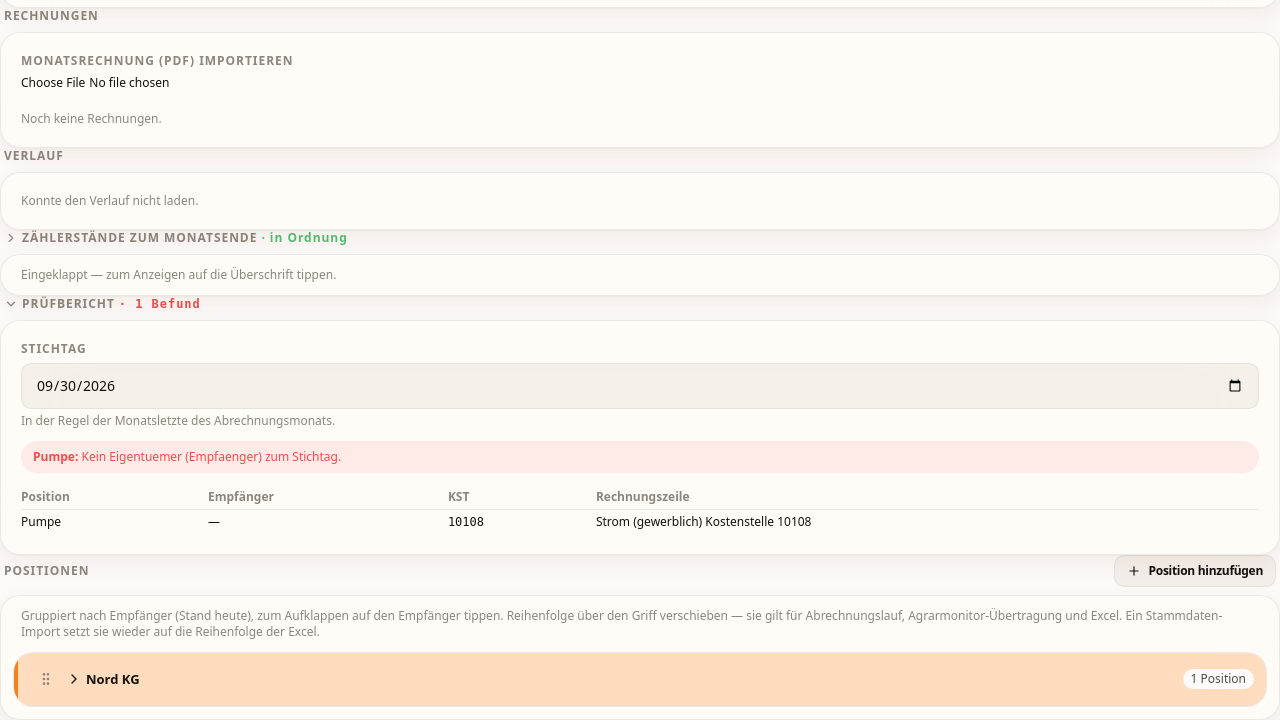
it: BillingCircleDetailPage › gruppiert nach Empfänger mit Griffen statt Reihenfolge-Nummer
(page scrolled)
Expected: the element named "Empfänger „Nord KG“" is shown, [13, 652, 1267, 707]
Expected: the button named "Empfänger „Nord KG“ verschieben" is shown, [30, 663, 62, 695]
Click the button "Nord KG": (113, 679) [66, 670, 1178, 688]
(page scrolled)
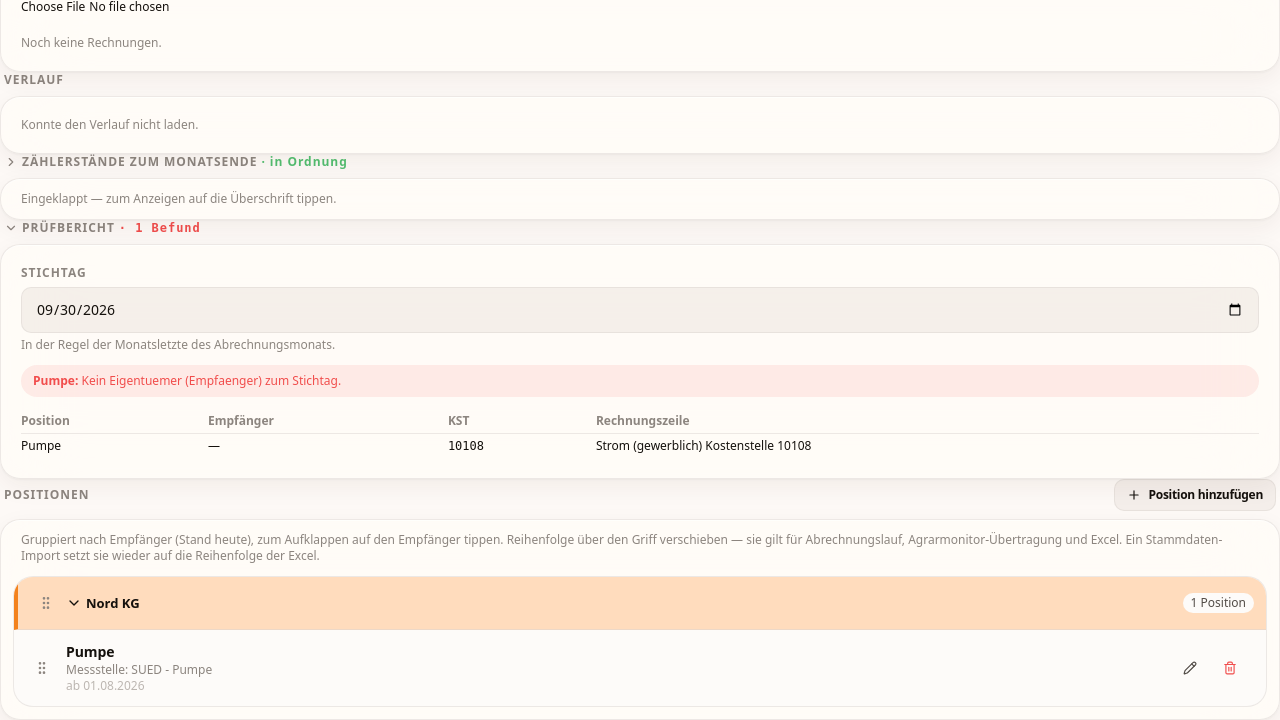
Expected: the button named "Position „Pumpe“ verschieben" is shown, [26, 652, 58, 684]
Click the button named "Position Pumpe bearbeiten": (1190, 668) [1174, 652, 1206, 684]
(page scrolled)
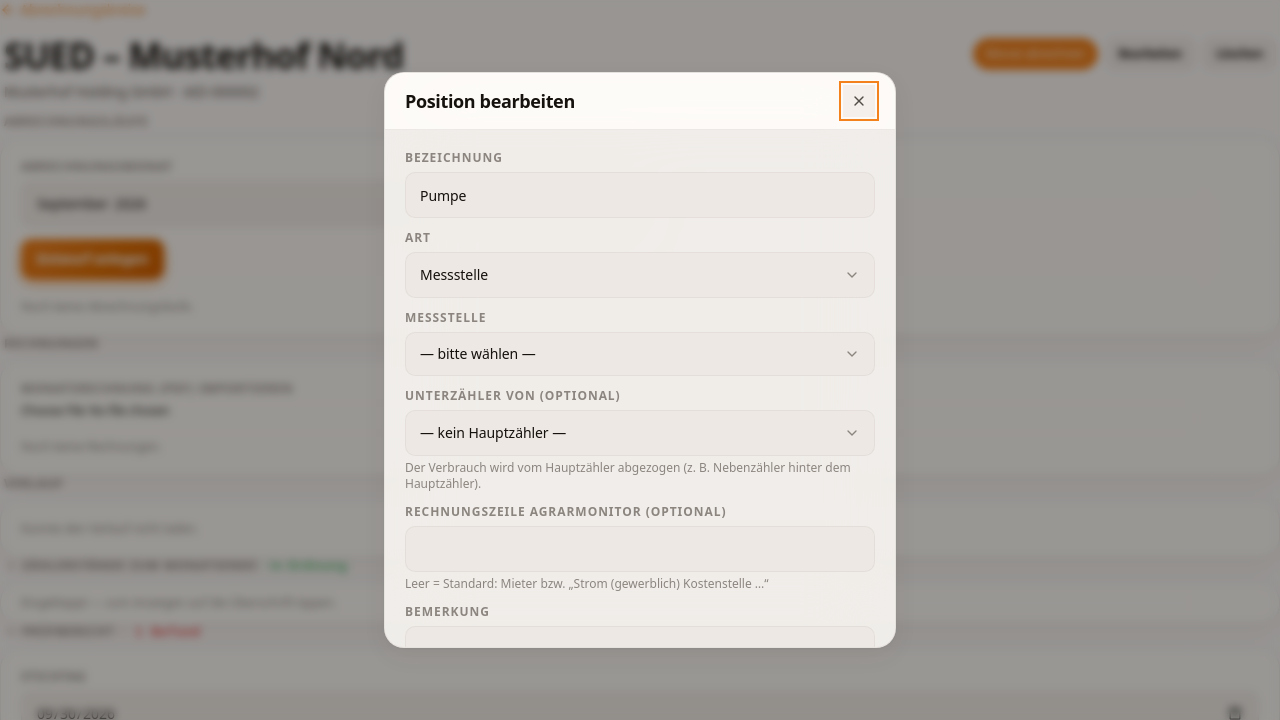
Expected: the field labelled "Bezeichnung" holds "Pumpe", [420, 173, 860, 217]
